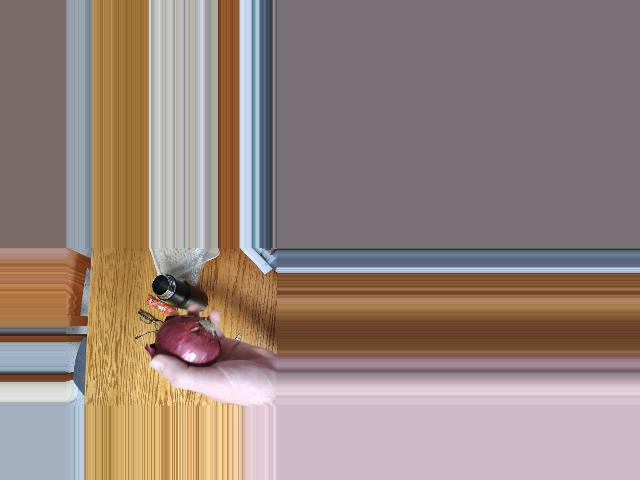onion: (156, 321, 215, 369)
